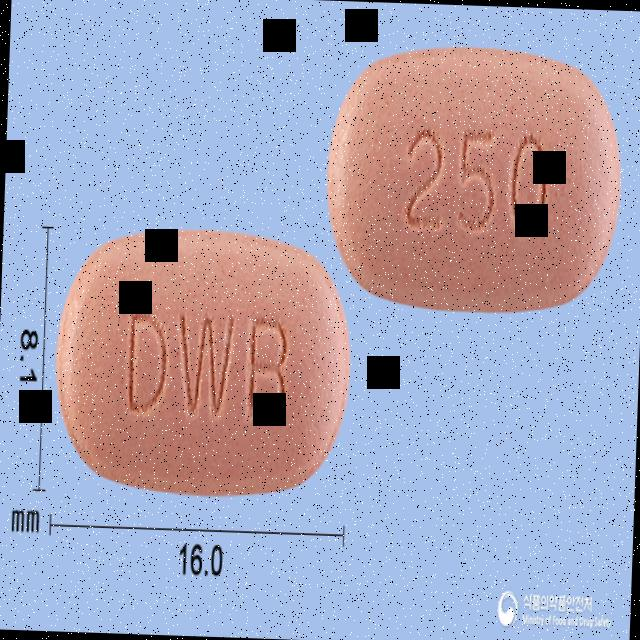Cravocin: (51, 222, 354, 501), (319, 40, 626, 314)
